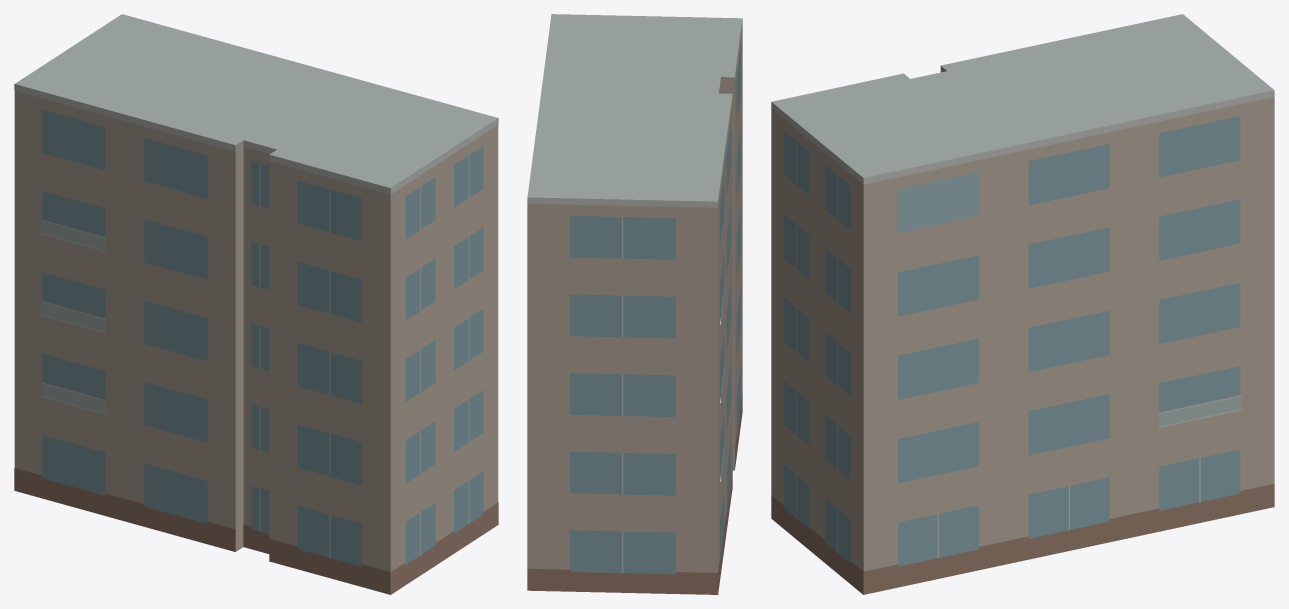
The model's file is survey-upis-33004070.glb.
3 views of the same model, side by side, from view 1: azimuth 30°, elevation 25°; view 2: azimuth 150°, elevation 25°; view 3: azimuth 270°, elevation 25° (orthographic). The views are drawn at different scales.
Visible parts, largest first — view 1: survey-upis-33004070.tmp; view 2: survey-upis-33004070.tmp; view 3: survey-upis-33004070.tmp.
Part boxes in pixels (<box>): survey-upis-33004070.tmp: <box>14,14,498,594</box>; survey-upis-33004070.tmp: <box>527,14,742,594</box>; survey-upis-33004070.tmp: <box>771,14,1274,594</box>.
Bounding box in the file's own units: 12.84 × 15.2 × 16.64.
